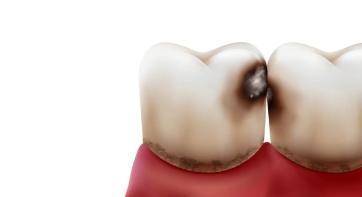Plaque: (143, 135, 267, 172), (274, 140, 354, 177), (238, 56, 280, 112)
